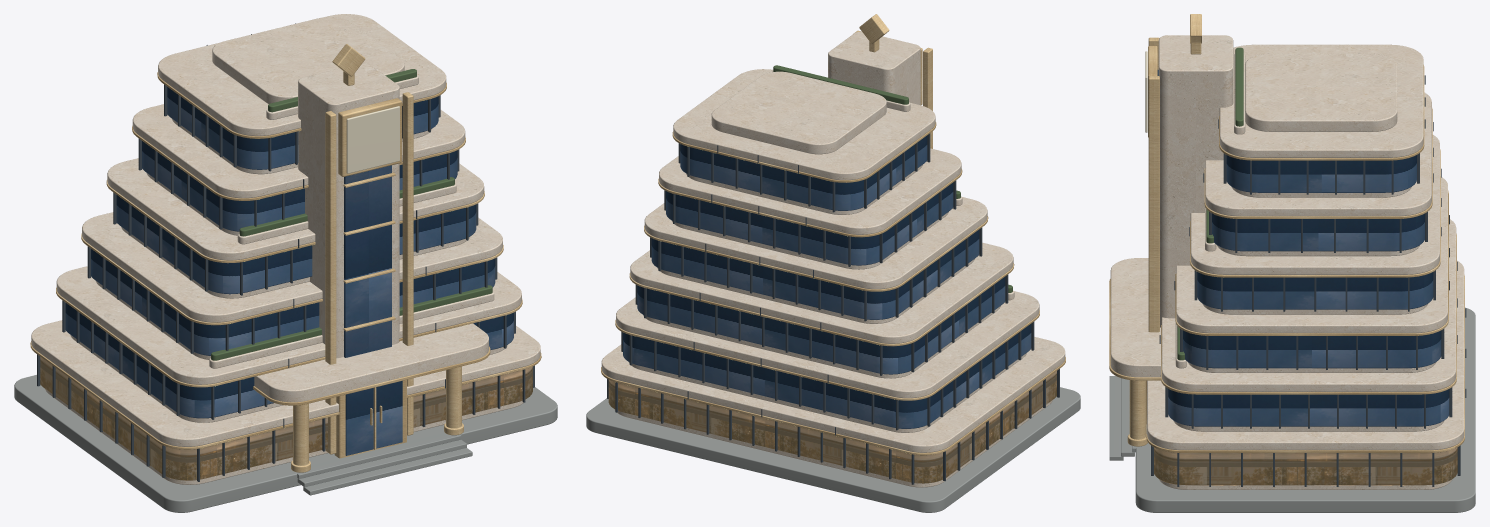
File: level-5-web.glb
3 views of the same model, side by side, from view 1: azimuth 30°, elevation 25°; view 2: azimuth 150°, elevation 25°; view 3: azimuth 270°, elevation 25° (orthographic). The views are drawn at different scales.
Visible parts, largest first — view 1: body, floors, foundation, entrance, roof, canopy, details, sign, emblem; view 2: body, floors, foundation, roof, details, emblem; view 3: body, floors, roof, foundation, canopy, entrance, details, sign, emblem.
Boxes of the visible parts, x1,y1,x2,y2 form: body: [37, 63, 534, 484]; floors: [30, 14, 541, 449]; foundation: [14, 375, 557, 512]; entrance: [291, 366, 472, 495]; roof: [212, 17, 404, 103]; canopy: [253, 323, 490, 405]; details: [206, 23, 494, 427]; sign: [338, 98, 401, 176]; emblem: [332, 44, 365, 85]; body: [607, 30, 1059, 487]; floors: [601, 69, 1065, 455]; foundation: [586, 387, 1080, 512]; roof: [711, 71, 886, 154]; details: [687, 65, 1014, 435]; emblem: [859, 14, 889, 52]; body: [1148, 35, 1460, 489]; floors: [1146, 44, 1464, 452]; roof: [1245, 53, 1397, 131]; foundation: [1135, 307, 1475, 512]; canopy: [1109, 258, 1160, 380]; entrance: [1109, 376, 1147, 460]; details: [1159, 47, 1466, 397]; sign: [1145, 45, 1157, 137]; emblem: [1190, 14, 1201, 54].
Bounding box in the file's own units: 6.5 × 6.33 × 5.18.
9 materials, 4 textured.
